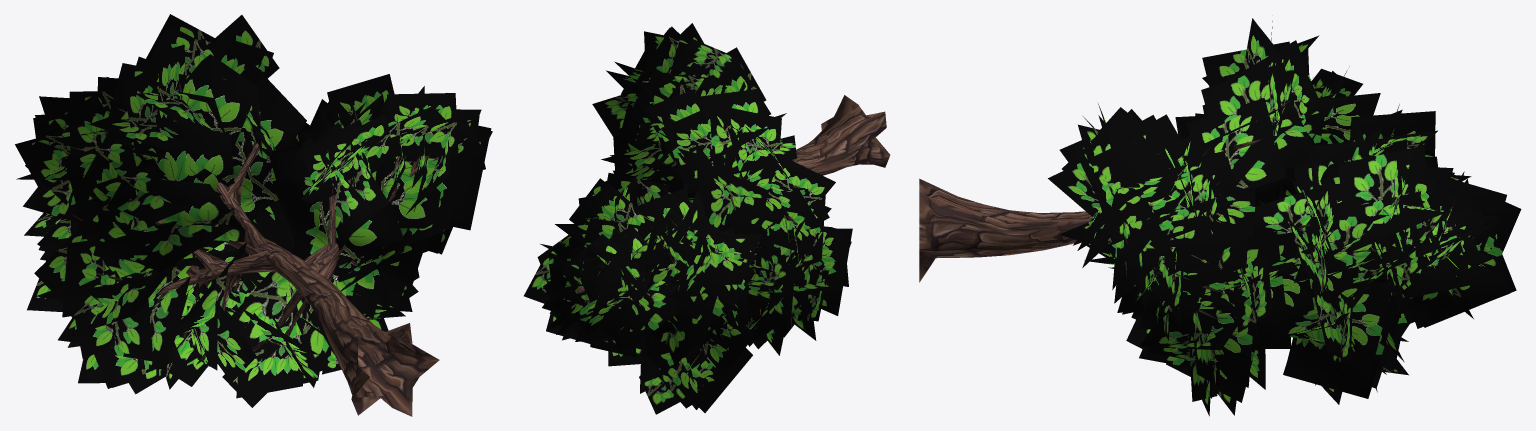
Rendered from tree1.fbx.
The picture shows the model from 3 angles, left to right: view 1: azimuth 30°, elevation 25°; view 2: azimuth 150°, elevation 25°; view 3: azimuth 270°, elevation 25°; orthographic projection. The views are drawn at different scales.
Visible parts, largest first — view 1: tree; view 2: tree; view 3: tree.
Part boxes in pixels (box(x1,y1,x2,y2)): tree: box(15, 14, 492, 416); tree: box(524, 23, 890, 414); tree: box(919, 18, 1521, 416).
Bounding box in the file's own units: 2674 × 1852 × 1790.
Materials: 2 (2 with a texture image).
